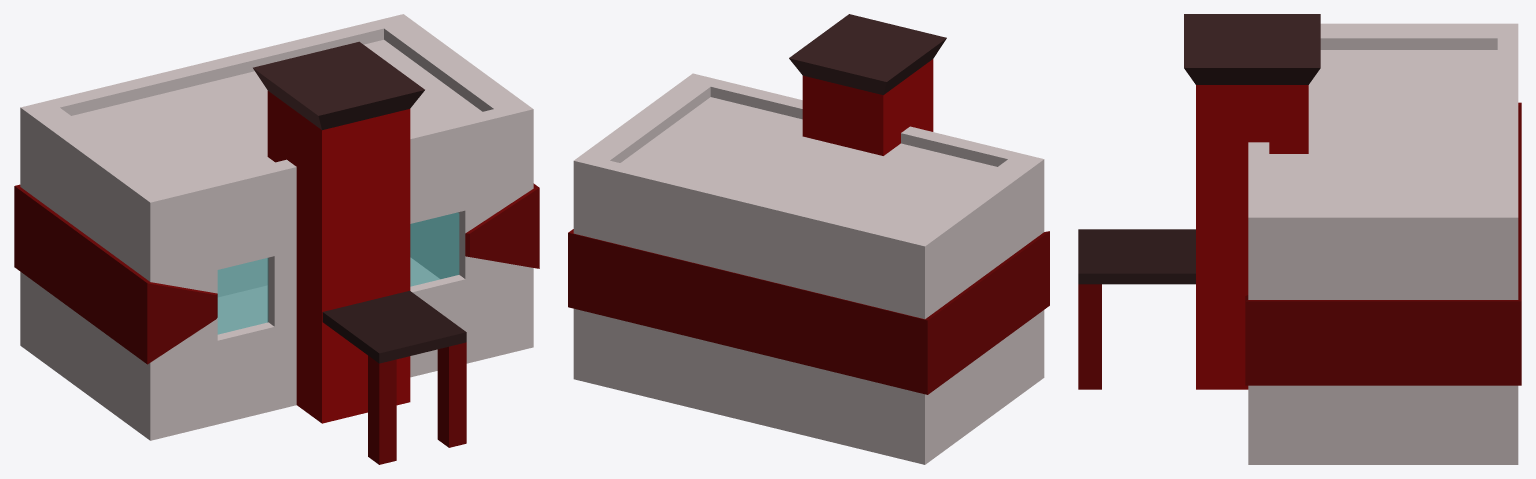
The model's file is house2.fbx.
3 renders of one model, left to right at view 1: azimuth 30°, elevation 25°; view 2: azimuth 150°, elevation 25°; view 3: azimuth 270°, elevation 25°, orthographic. The views are drawn at different scales.
Visible parts, largest first — view 1: house2; view 2: house2; view 3: house2.
Part boxes in pixels (bbox=[...]): house2: bbox=[14, 14, 539, 464]; house2: bbox=[568, 14, 1049, 464]; house2: bbox=[1078, 14, 1521, 464].
Size of the model in its own units: 18.32 by 14.03 by 17.27.
